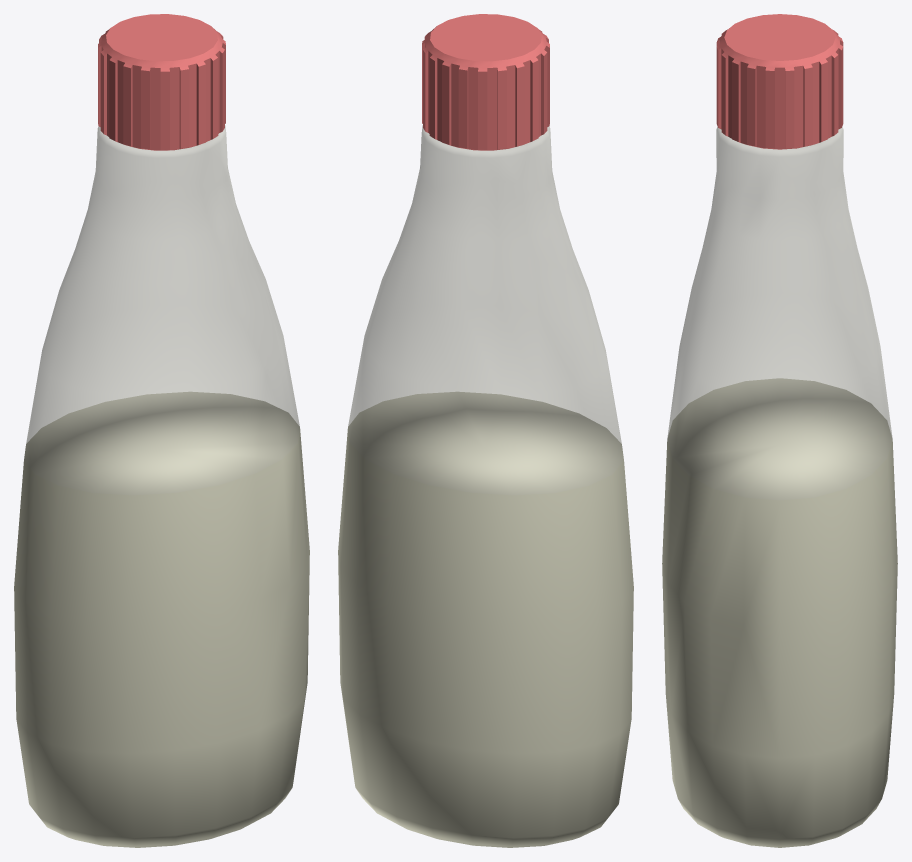
File: mayonaise_half.fbx
3 views of the same model, side by side, from view 1: azimuth 30°, elevation 25°; view 2: azimuth 150°, elevation 25°; view 3: azimuth 270°, elevation 25° (orthographic).
Visible parts, largest first — view 1: mayonaise_half; view 2: mayonaise_half; view 3: mayonaise_half.
Part boxes in pixels (<box>): mayonaise_half: <box>14,14,309,847</box>; mayonaise_half: <box>338,14,633,847</box>; mayonaise_half: <box>662,14,897,847</box>.
Bounding box in the file's own units: 5.24 × 14.1 × 3.97.
